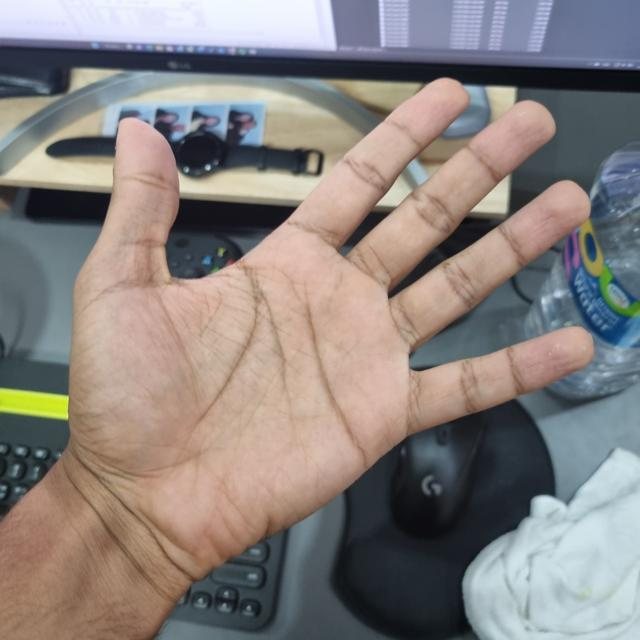Paper: (61, 77, 595, 569)
